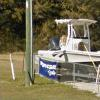Boat: (36, 16, 100, 91)
